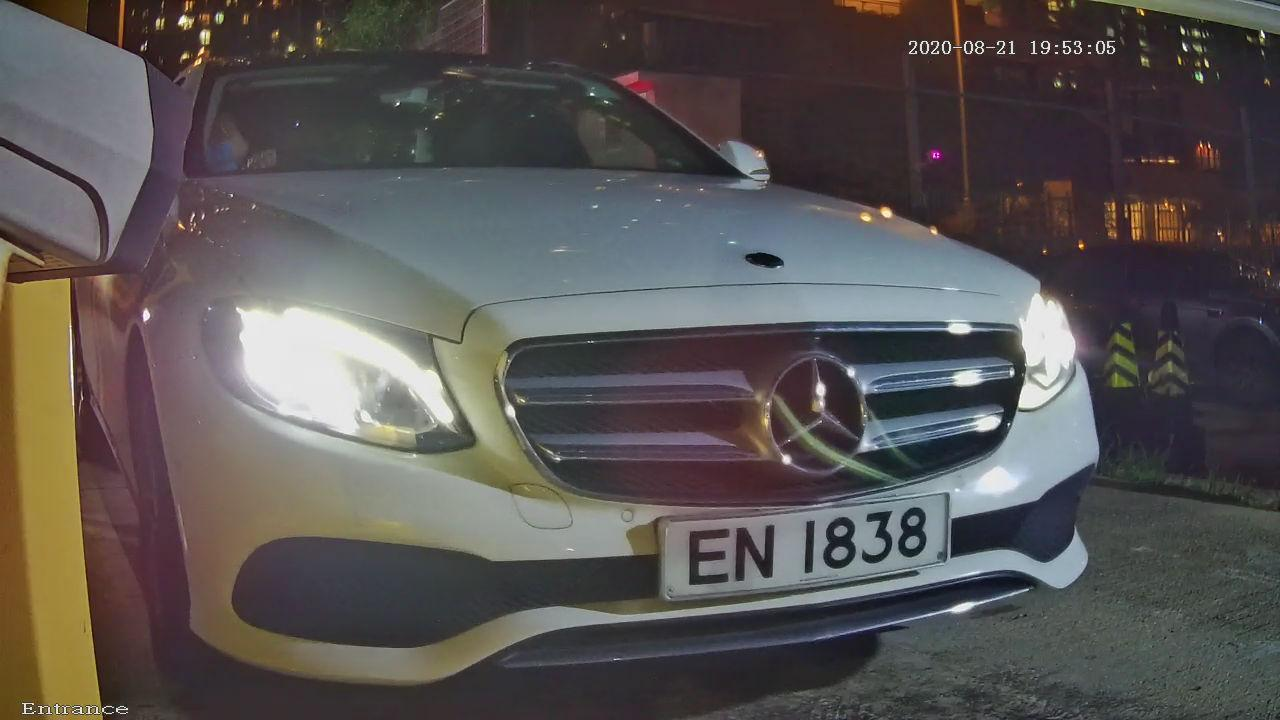License Plate: (620, 444, 992, 632)
